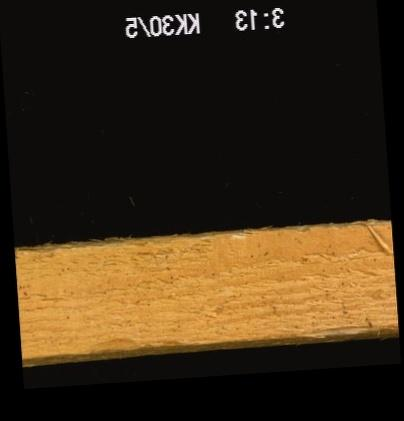wave: (71, 330, 210, 355), (304, 319, 394, 338)
